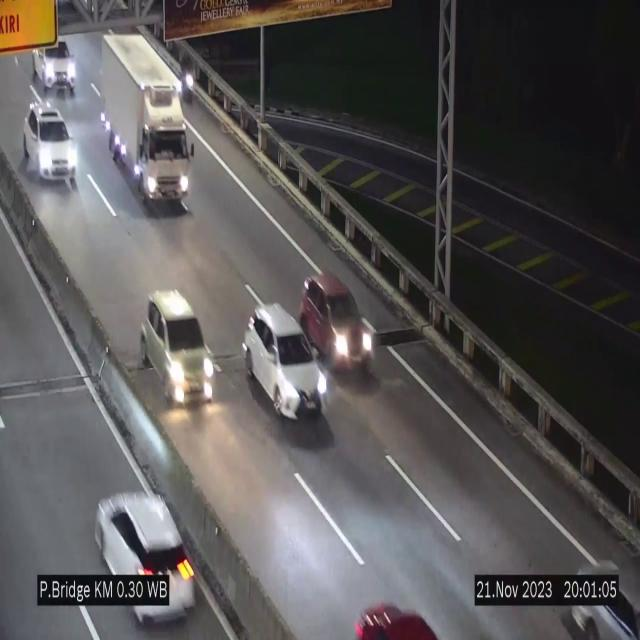Car: (88, 482, 203, 640), (243, 305, 325, 417), (140, 290, 213, 402), (304, 267, 374, 381), (23, 99, 76, 187), (29, 31, 89, 92)
Motorcycle: (179, 44, 195, 106)
Truck: (100, 34, 192, 212)
